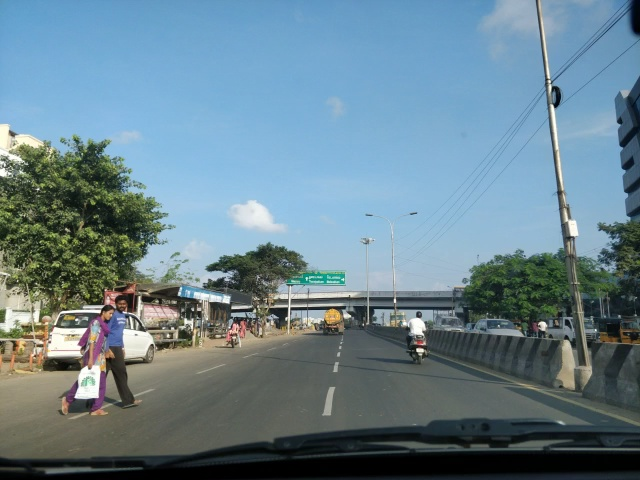car: (41, 301, 161, 370), (469, 315, 529, 348), (429, 315, 469, 339)
motorbike: (398, 310, 433, 367), (224, 320, 245, 350)
person: (76, 299, 144, 420), (532, 315, 552, 341)
truck: (551, 318, 607, 353), (598, 315, 638, 354), (319, 306, 349, 336)
